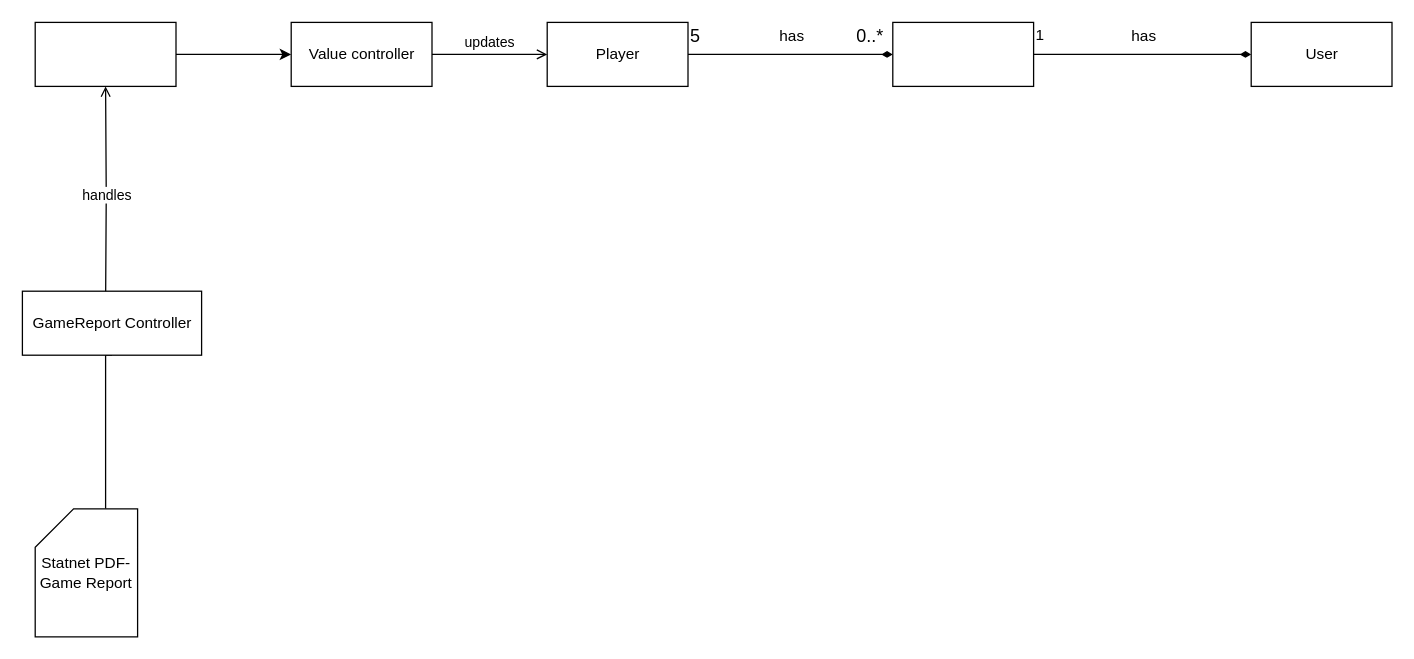
The diagram is 1414 pixels wide and 659 high, and some of its shapes have lost their labels. The shapes that lost their labels are listed below. From the top down, each one's centre as x and y in pixels, then its label:
point 105,53: GameReport
point 963,53: Team
